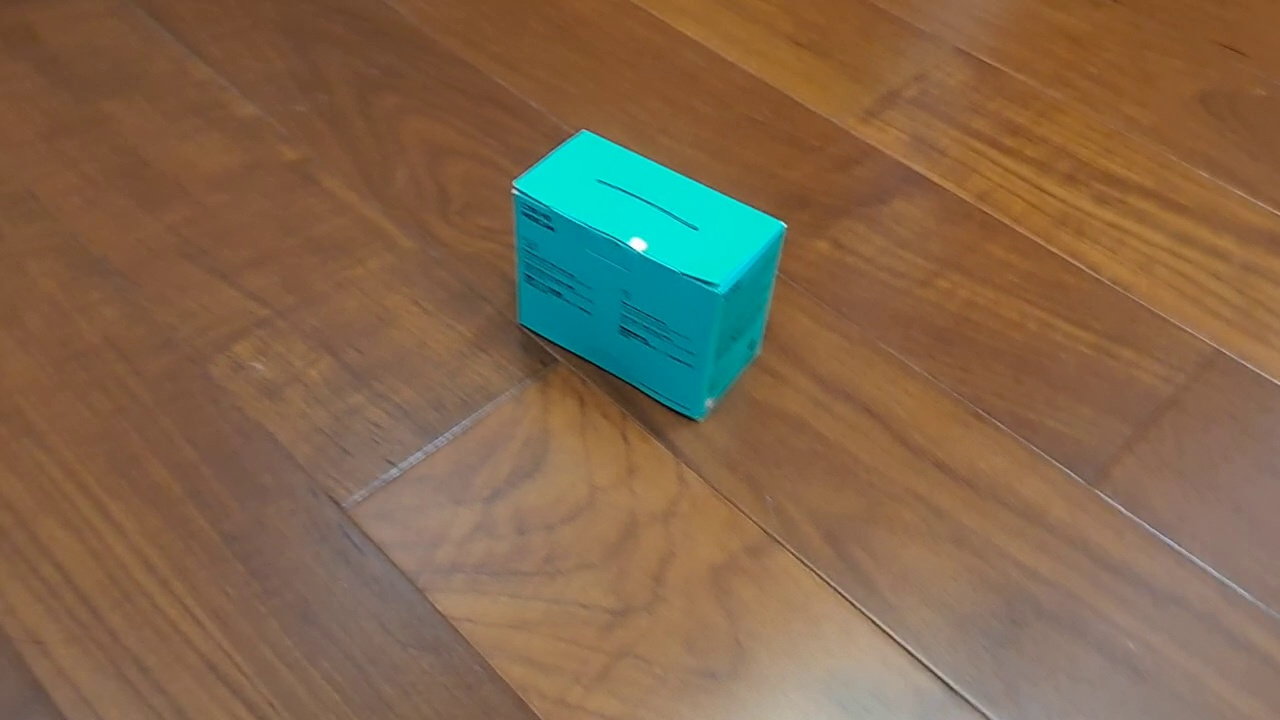webcam: (509, 127, 789, 425)
